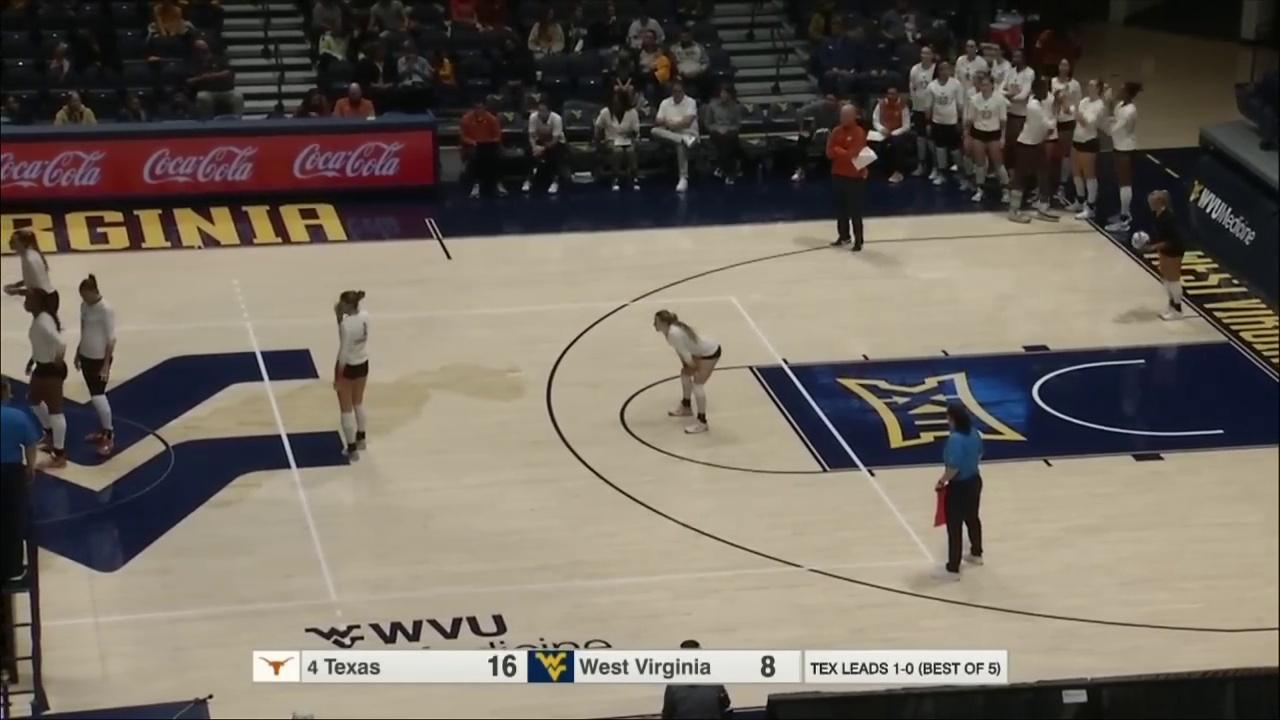player: (9, 231, 60, 405), (654, 310, 723, 433), (23, 289, 69, 466), (76, 276, 120, 451), (333, 289, 370, 462), (1139, 189, 1186, 319)
refree: (937, 403, 987, 578), (0, 378, 40, 582)
